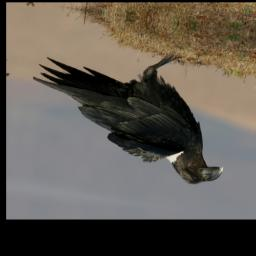Crow: (20, 30, 242, 191)
